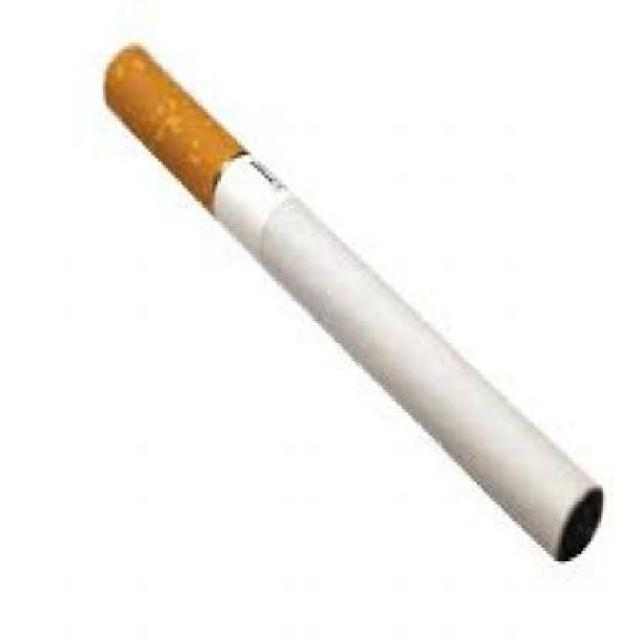cigarette: (102, 23, 610, 574)
